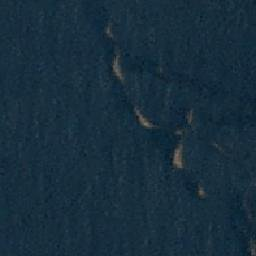debris: (133, 106, 152, 128), (172, 141, 186, 169), (112, 56, 124, 82), (106, 22, 114, 39), (198, 184, 206, 196), (186, 110, 192, 125)
